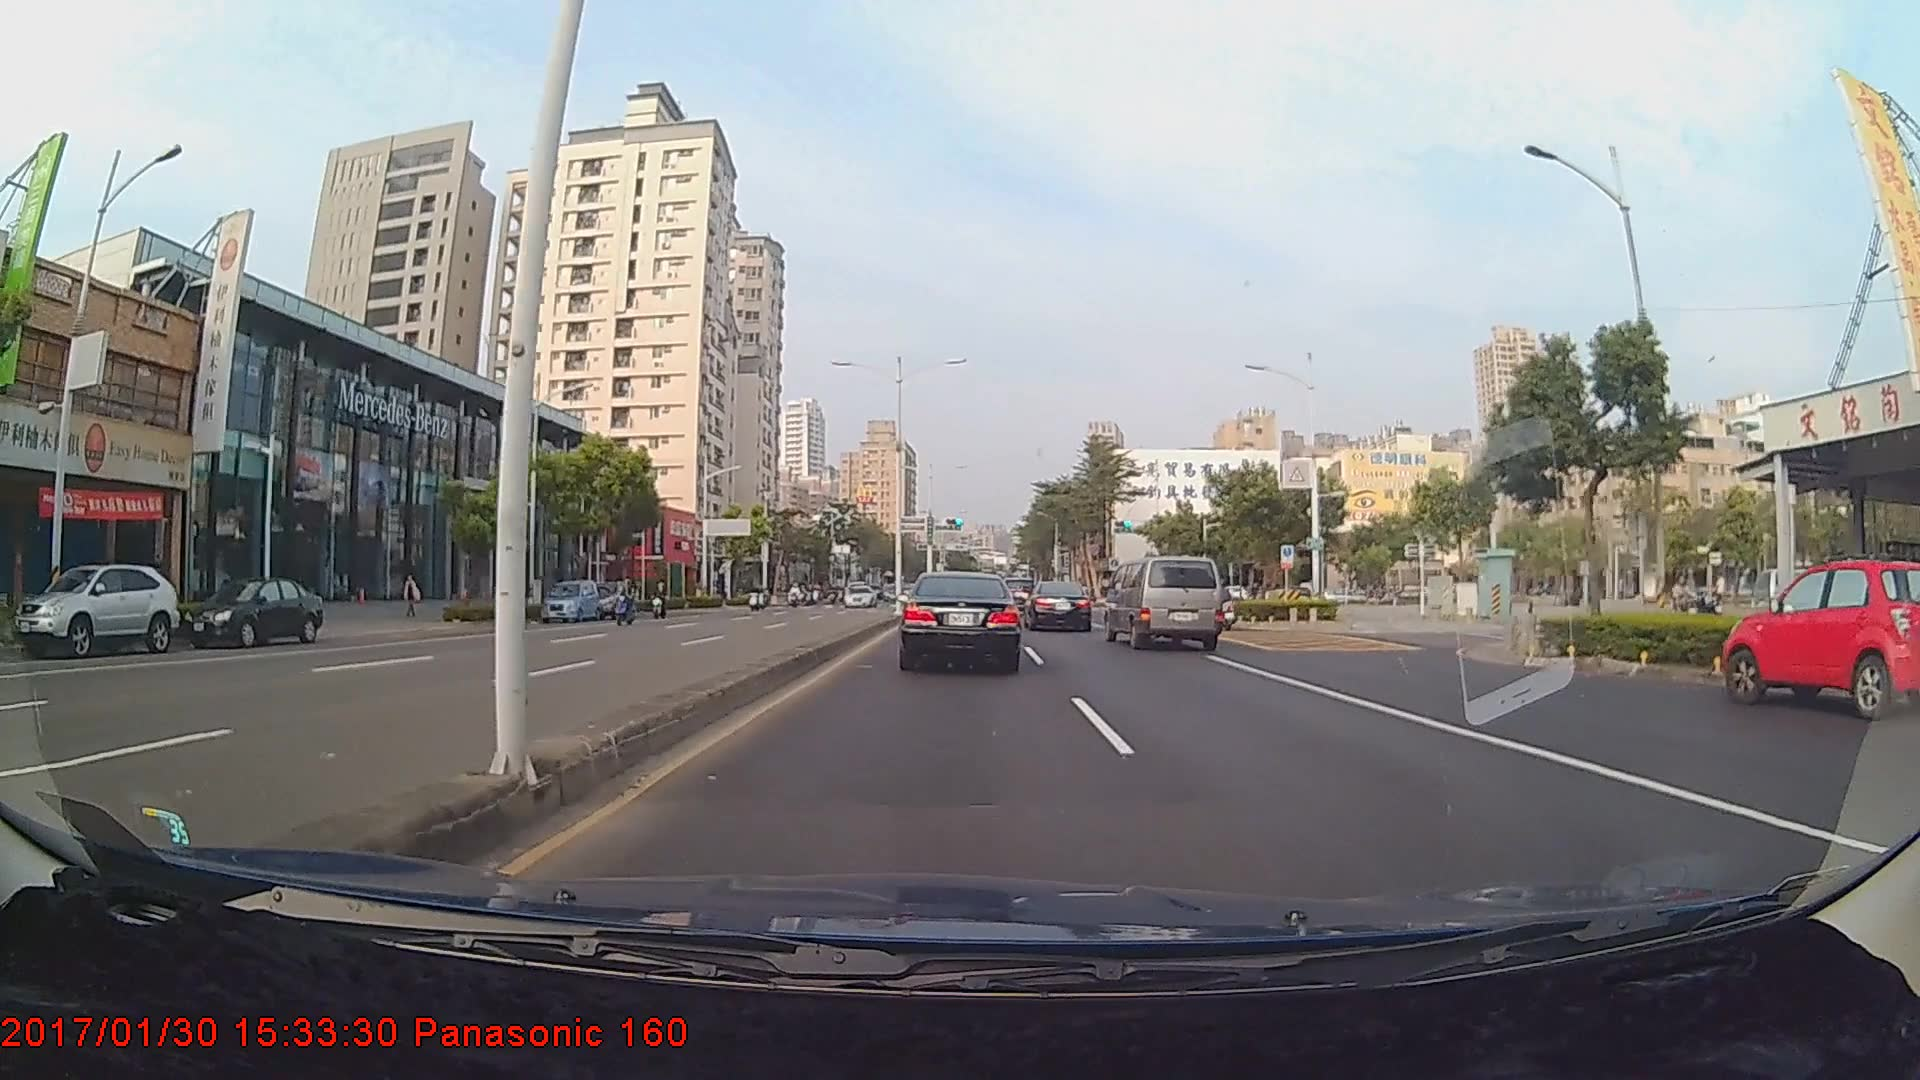pedestrian: (401, 572, 423, 619)
rider: (612, 576, 642, 629)
vehicle: (1717, 554, 1920, 723), (10, 562, 180, 658), (898, 569, 1021, 672), (1105, 555, 1224, 651), (182, 575, 323, 649), (1023, 580, 1093, 633), (539, 579, 600, 623), (586, 579, 637, 620), (842, 584, 879, 608)
